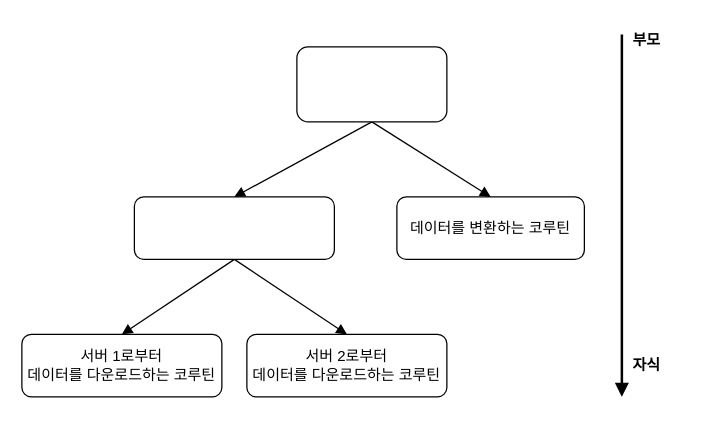
Image size: 706x429. Some labels were removed from this diagram. Each missing label, with the centre of its shape:
여러 서버로부터 데이터 다운로드 후 변환하는 코루틴: the point at 371,84
여러 서버로부터 데이터를 다운로드하는 코루틴: the point at 233,227
